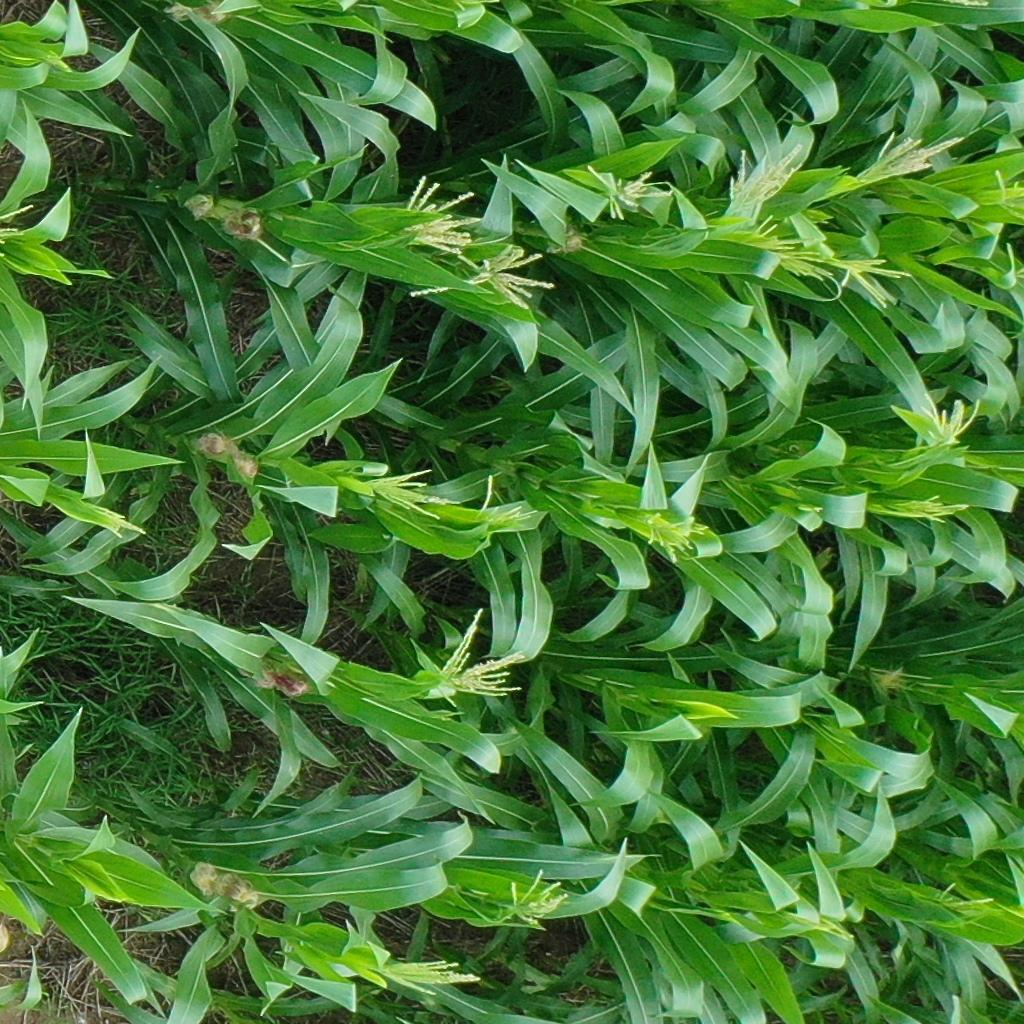Tassel: (402, 174, 556, 309), (746, 214, 912, 312), (437, 604, 521, 701), (852, 122, 965, 183), (579, 160, 677, 220), (722, 143, 806, 212), (364, 469, 465, 525), (373, 957, 484, 1001), (911, 389, 986, 451), (474, 473, 540, 538), (640, 510, 712, 564), (505, 867, 566, 929), (879, 496, 973, 528), (84, 498, 147, 539), (936, 879, 996, 911), (1, 201, 33, 260), (990, 168, 1024, 218), (812, 915, 855, 943)
